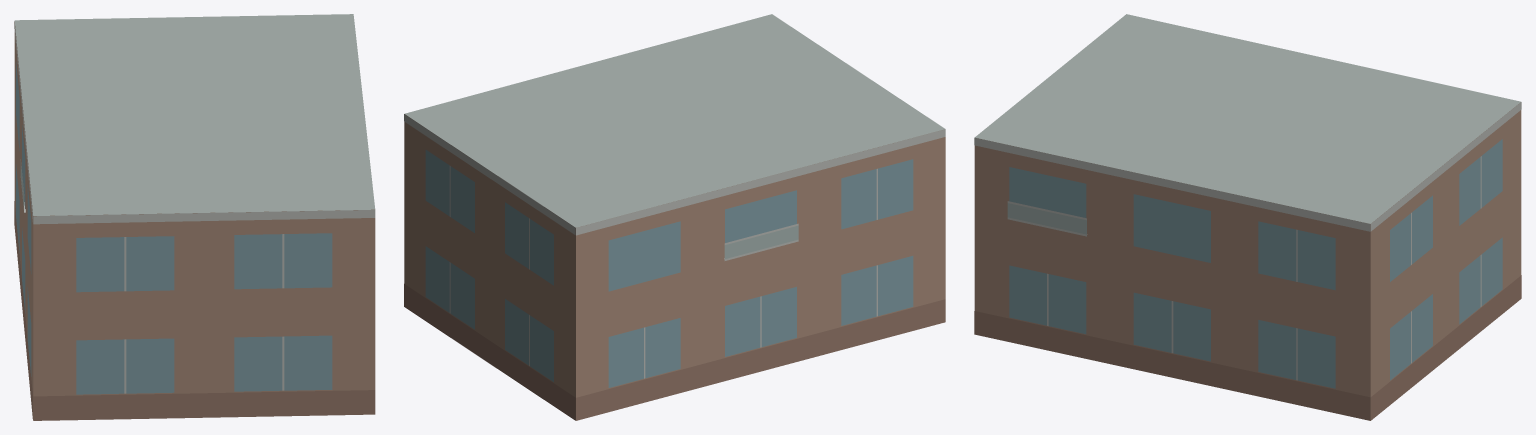
Rendered from survey-upis-32710853.glb.
The picture shows the model from 3 angles, left to right: view 1: azimuth 30°, elevation 25°; view 2: azimuth 150°, elevation 25°; view 3: azimuth 270°, elevation 25°; orthographic projection. The views are drawn at different scales.
Visible parts, largest first — view 1: survey-upis-32710853.tmp; view 2: survey-upis-32710853.tmp; view 3: survey-upis-32710853.tmp.
Part boxes in pixels (x1,y1,x2,y2): survey-upis-32710853.tmp: (14, 14, 375, 420); survey-upis-32710853.tmp: (404, 14, 945, 420); survey-upis-32710853.tmp: (974, 14, 1521, 420).
Bounding box in the file's own units: 13.96 × 6.1 × 15.36.
